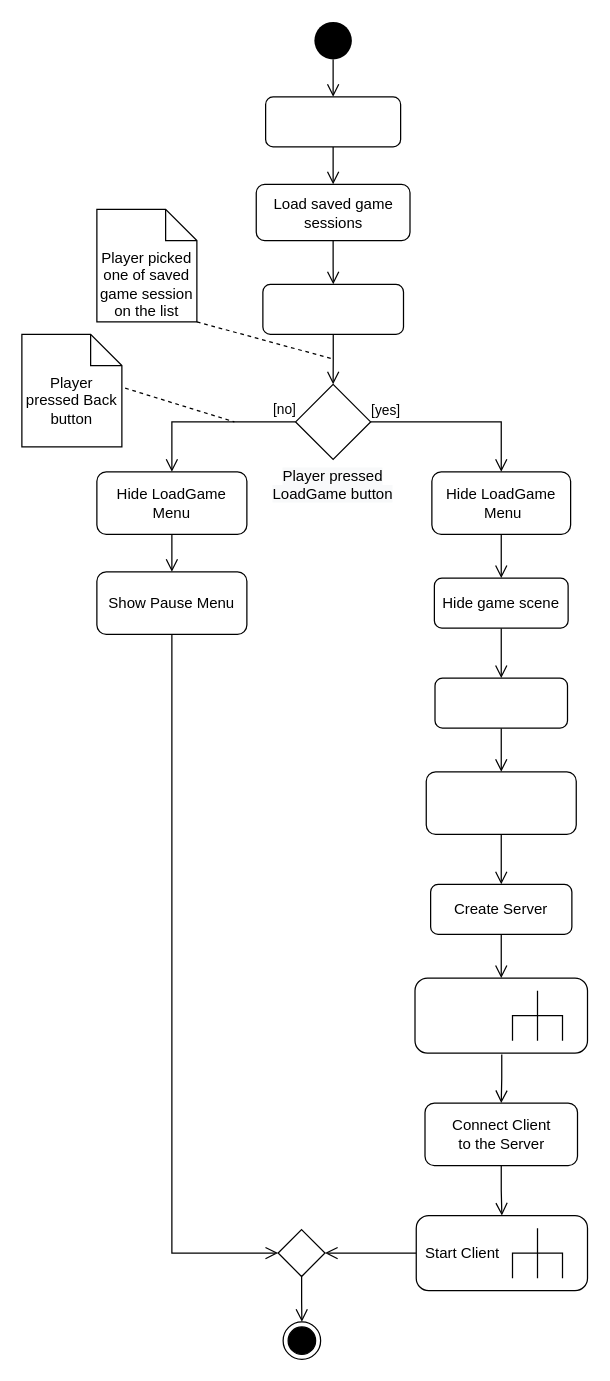
Image size: 610x1381. Some labels were removed from this diagram. The centre of each missing label's shape, as x and y in pixels:
"Hide Pause Menu" goes at (332,121).
"Load saved game session source" goes at (500,802).
"Remove Server" goes at (501,702).
"Show LoadGame Menu" goes at (333,308).
"Start Server" goes at (501,1015).
